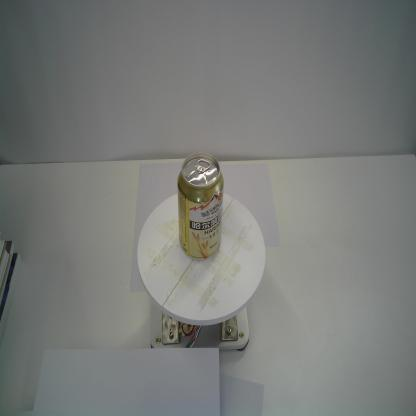Alcohol: (177, 151, 224, 261)
